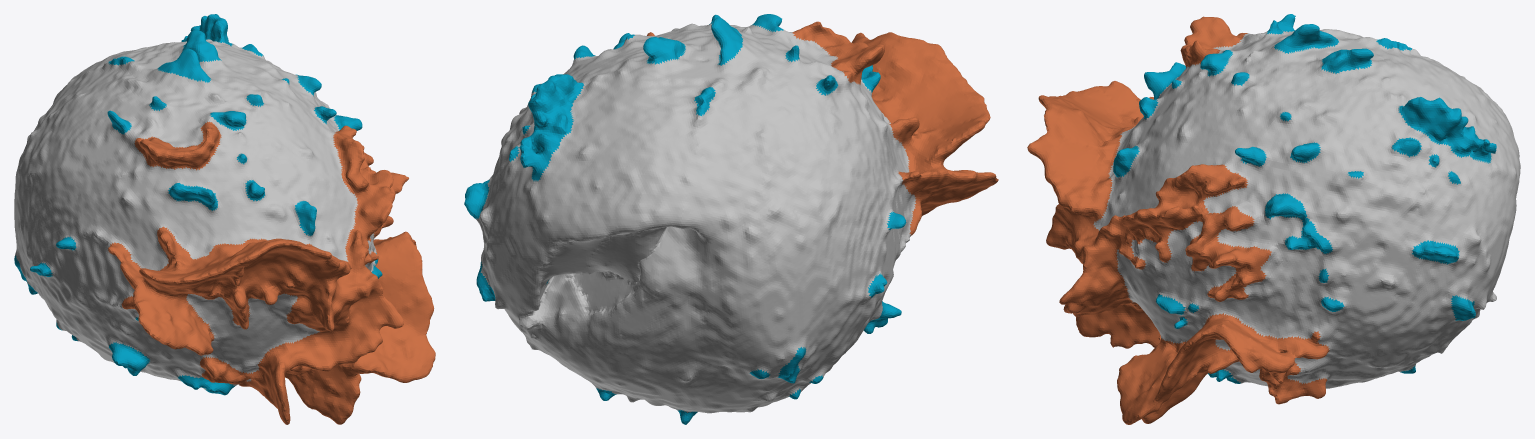
3 views of the same model, side by side, from view 1: azimuth 30°, elevation 25°; view 2: azimuth 150°, elevation 25°; view 3: azimuth 270°, elevation 25° (orthographic). The views are drawn at different scales.
Size of the model in its own units: 153 by 141 by 175.
